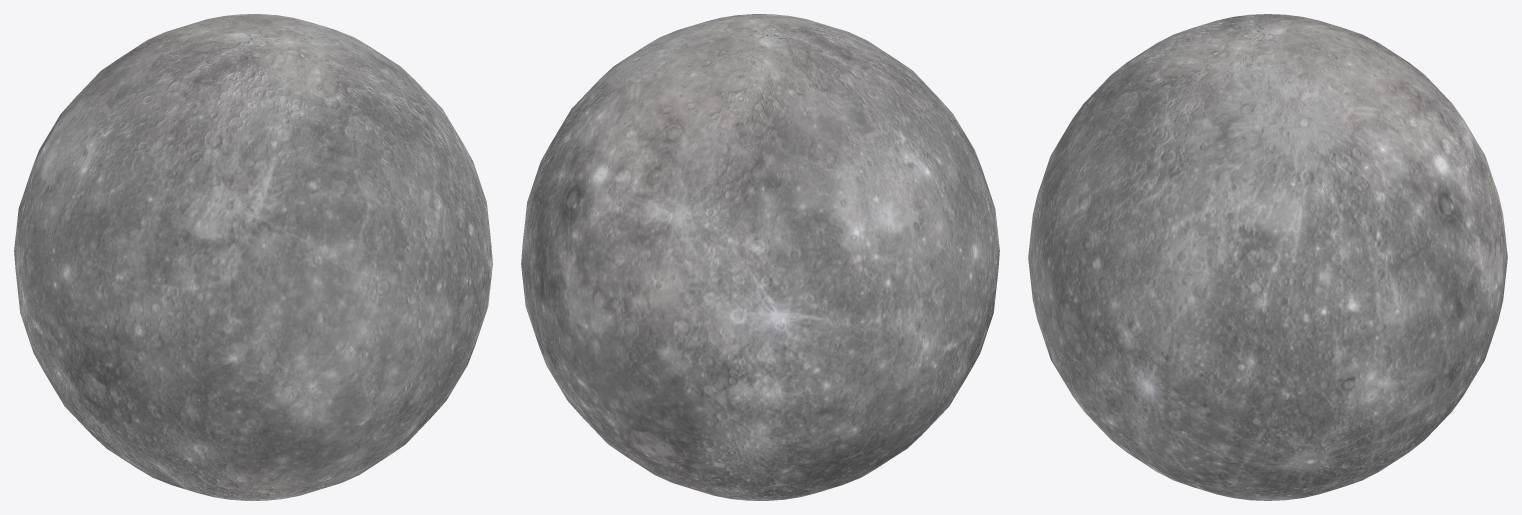
Rendered from mercurio.glb.
The picture shows the model from 3 angles, left to right: view 1: azimuth 30°, elevation 25°; view 2: azimuth 150°, elevation 25°; view 3: azimuth 270°, elevation 25°; orthographic projection.
Visible parts, largest first — view 1: Esfera; view 2: Esfera; view 3: Esfera.
Boxes of the visible parts, x1,y1,x2,y2 form: Esfera: (14,14,492,500); Esfera: (521,14,999,500); Esfera: (1028,14,1507,500).
Size of the model in its own units: 1.89 by 1.92 by 1.89.
1 material, 1 textured.
